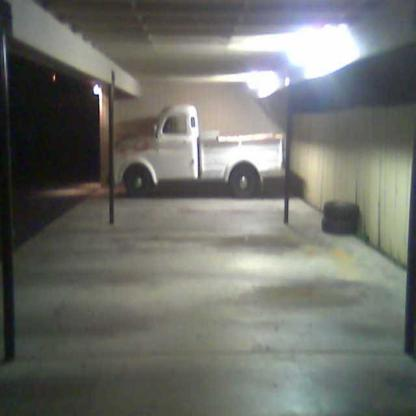Truck: (114, 105, 286, 199)
